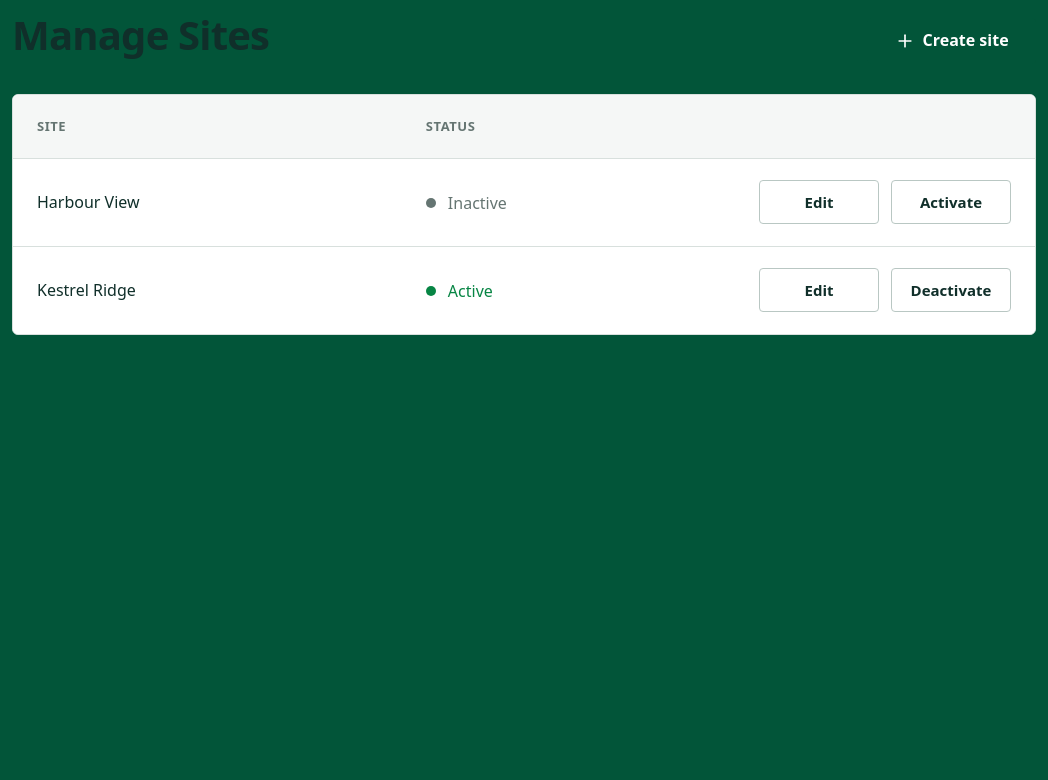
it: AdminSitesPage › shows server errors such as duplicate names
Expected: the table is shown, [13,95,1035,334]
Click the button "Create site".
click(952, 41)  # box [867,18,1036,64]
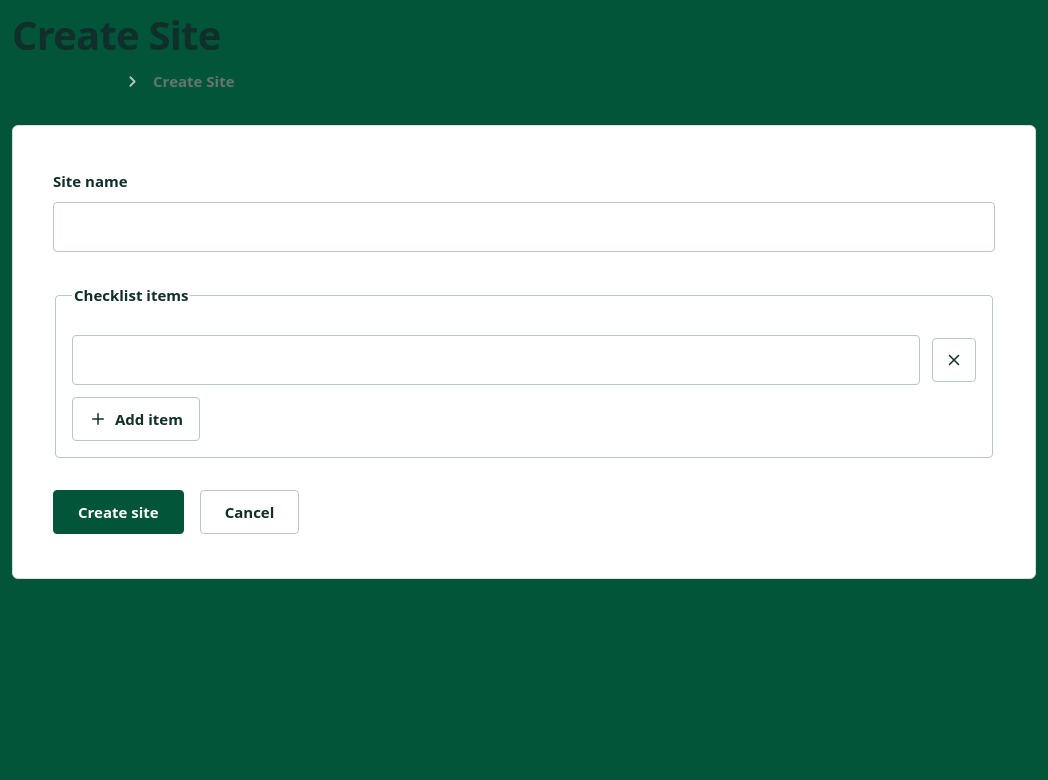
Type "Kestrel Ridge" into the field labelled "Site name".
click(524, 227); type("Kestrel Ridge")  # box [53,202,995,252]
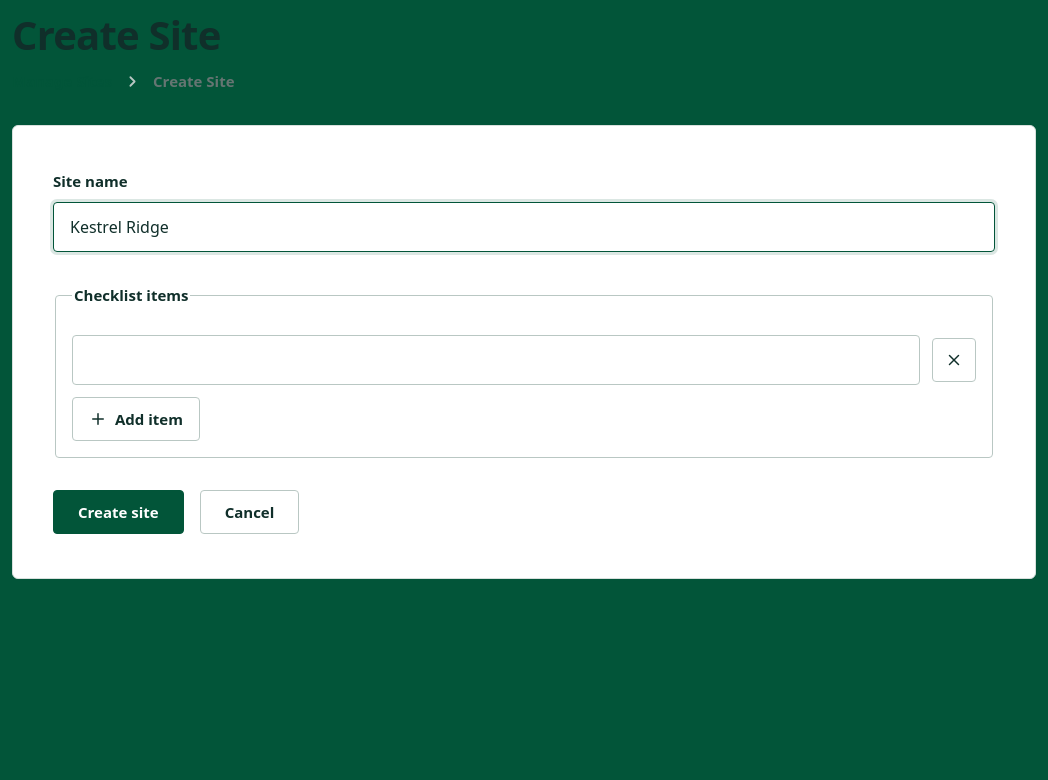
Type "Hard hat worn" into the field named "Checklist item 1".
click(496, 360); type("Hard hat worn")  # box [72,335,920,385]
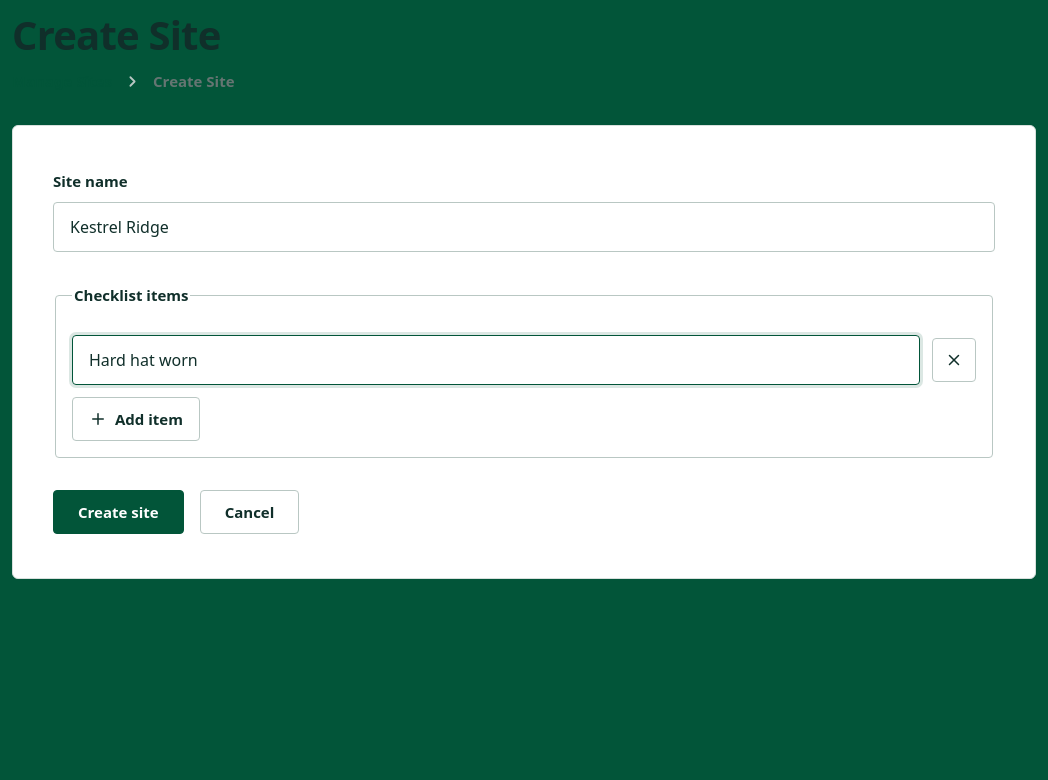
Click the button "Create site".
click(118, 512)  # box [53,490,184,534]
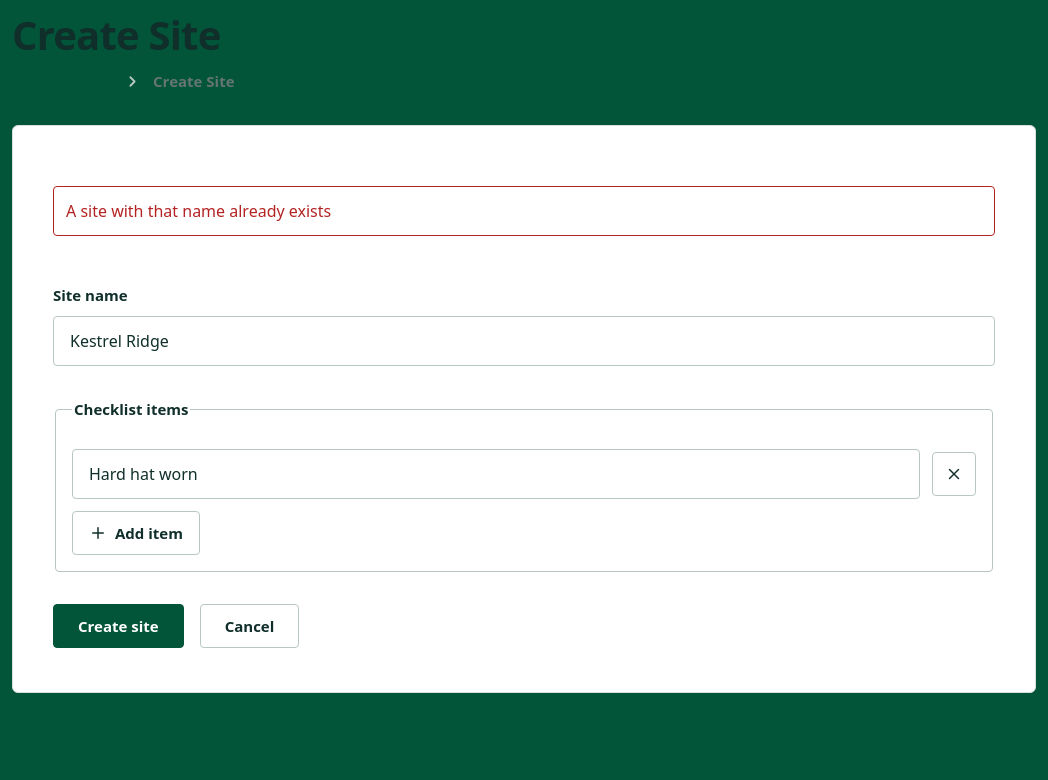
Expected: the message shows "already exists", [66,200,331,222]
